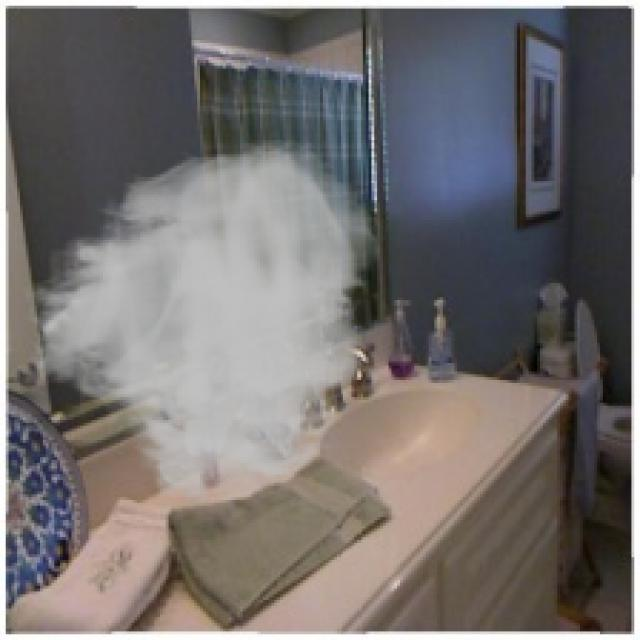smoke: (14, 137, 383, 506)
